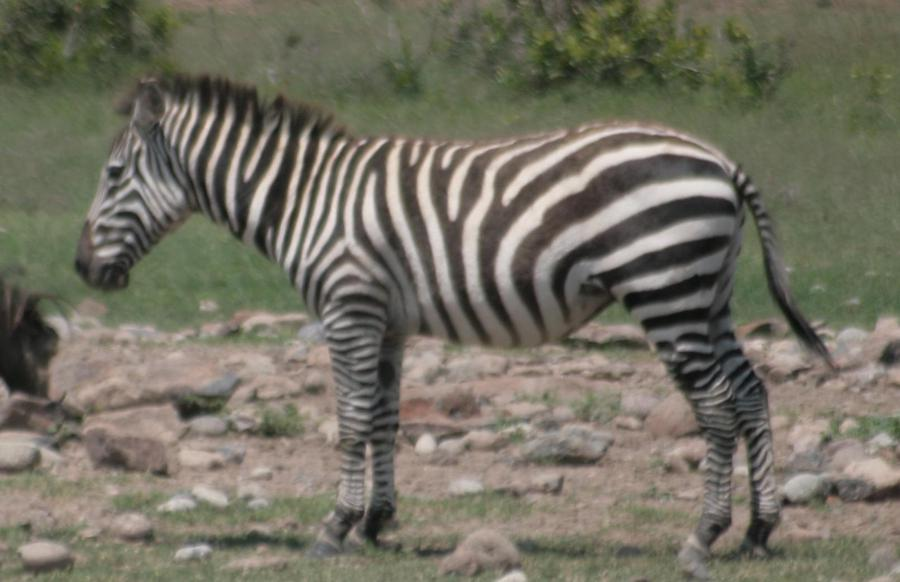zebra_plains: (258, 91, 768, 362)
